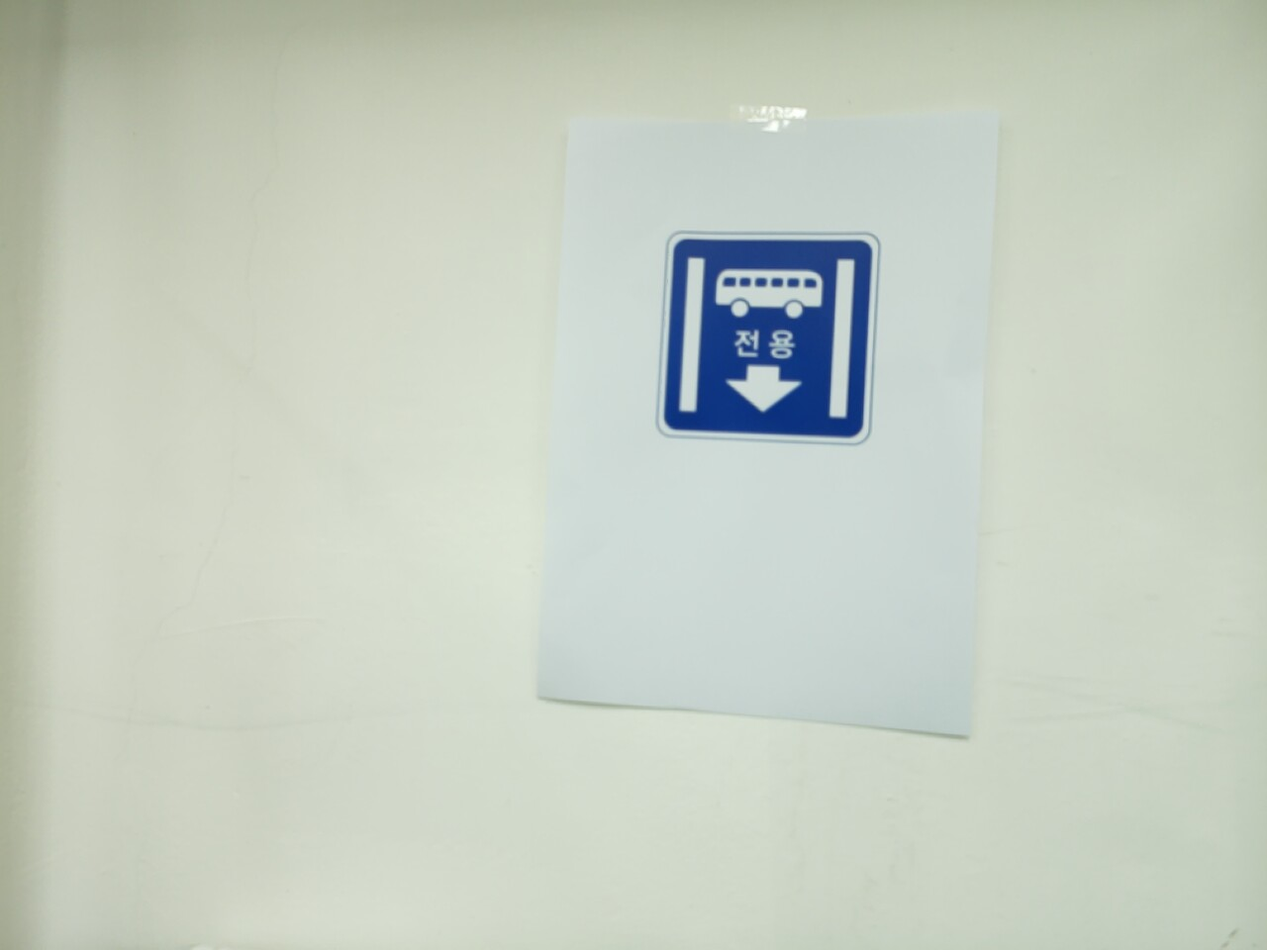bus_only_lane: (656, 231, 880, 446)
